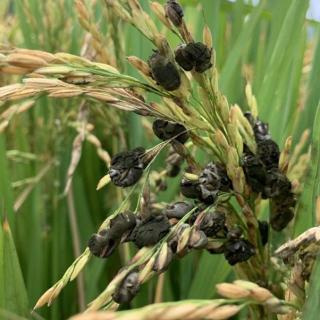Gosong-Palsu: (94, 116, 296, 290), (150, 42, 211, 89), (162, 0, 186, 28)
